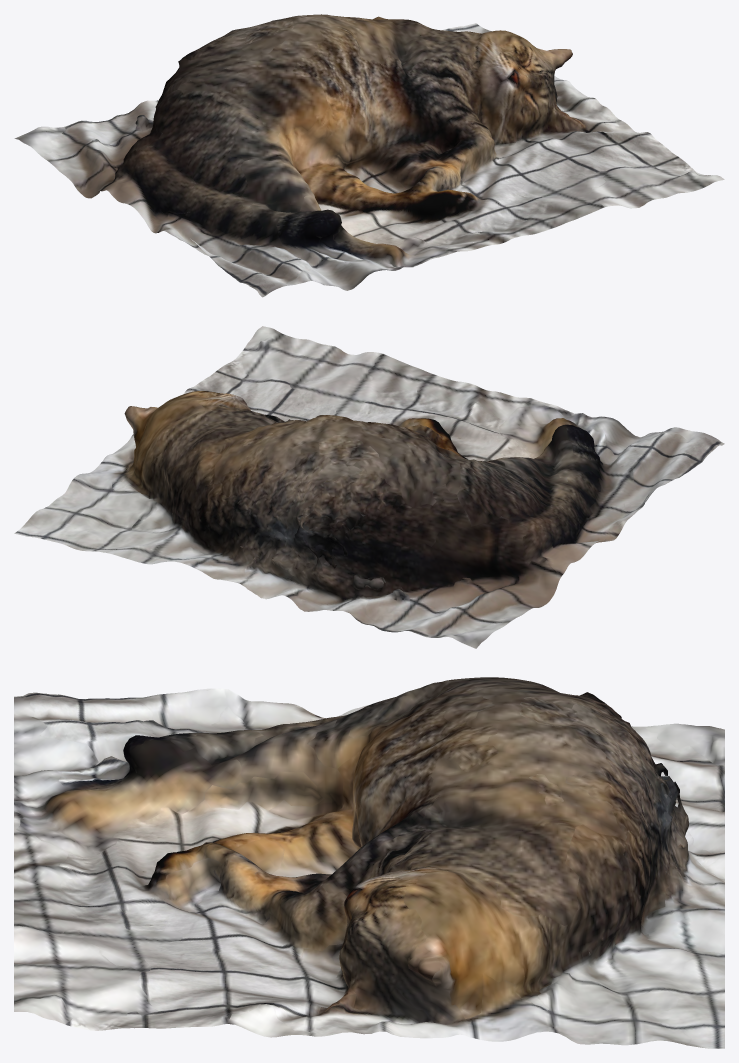
Rendered from cat.glb.
3 views of the same model, one above another, from view 1: azimuth 30°, elevation 25°; view 2: azimuth 150°, elevation 25°; view 3: azimuth 270°, elevation 25° (orthographic). The views are drawn at different scales.
Visible parts, largest first — view 1: Object_4; view 2: Object_4; view 3: Object_4.
Part boxes in pixels (x1,y1,x2,y2): Object_4: (14, 14, 724, 297); Object_4: (14, 326, 724, 648); Object_4: (14, 677, 724, 1048).
Size of the model in its own units: 0.5365 by 0.1328 by 0.4997.
Materials: 1 (1 with a texture image).
